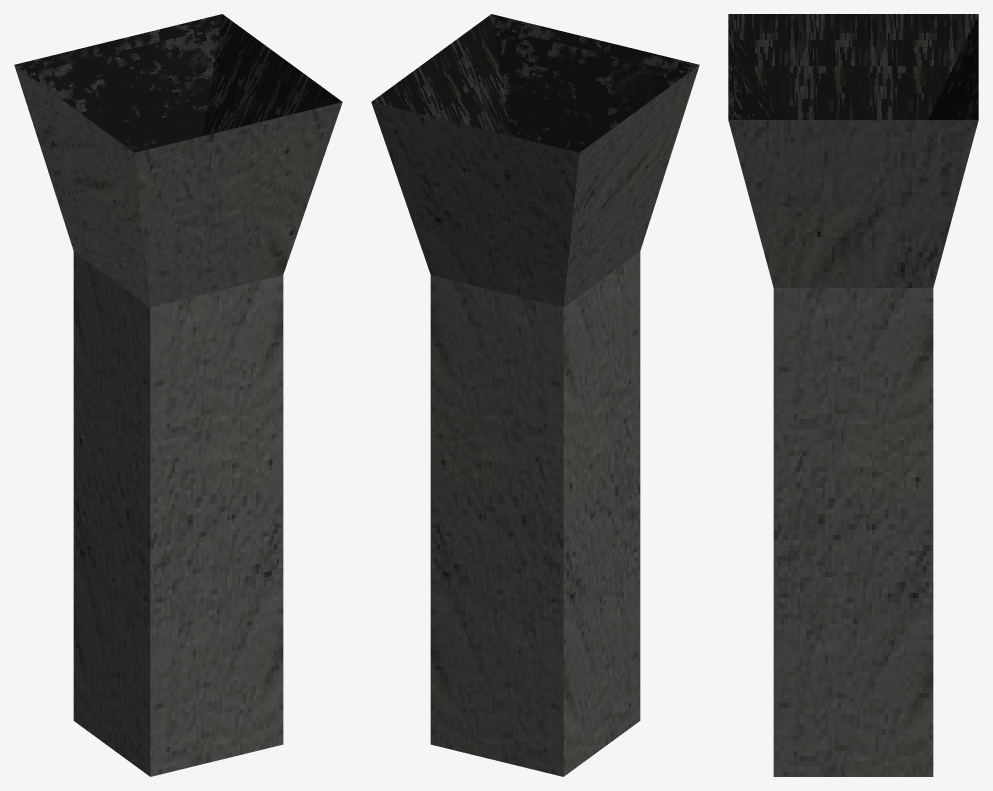
The model's file is torch01.glb.
3 renders of one model, left to right at view 1: azimuth 30°, elevation 25°; view 2: azimuth 150°, elevation 25°; view 3: azimuth 270°, elevation 25°, orthographic. The views are drawn at different scales.
Visible parts, largest first — view 1: Cube; view 2: Cube; view 3: Cube.
Part boxes in pixels (left/top/right/bottom): Cube: left=14, top=14, right=342, bottom=776; Cube: left=371, top=14, right=699, bottom=776; Cube: left=728, top=14, right=978, bottom=776.
Bounding box in the file's own units: 1.31 × 3.89 × 1.31.
2 materials, 2 textured.
